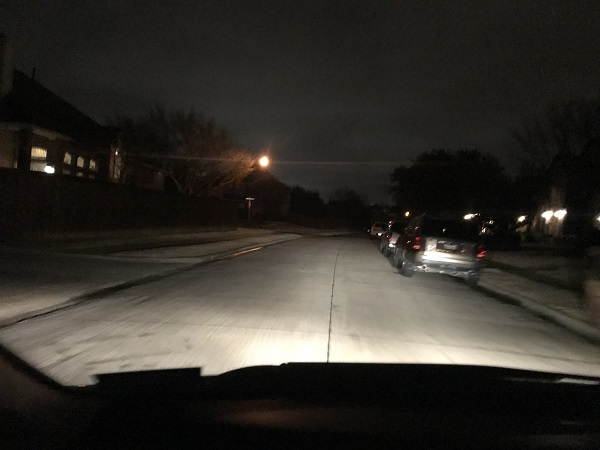car: (395, 212, 490, 284), (381, 225, 401, 253), (368, 220, 386, 238)
